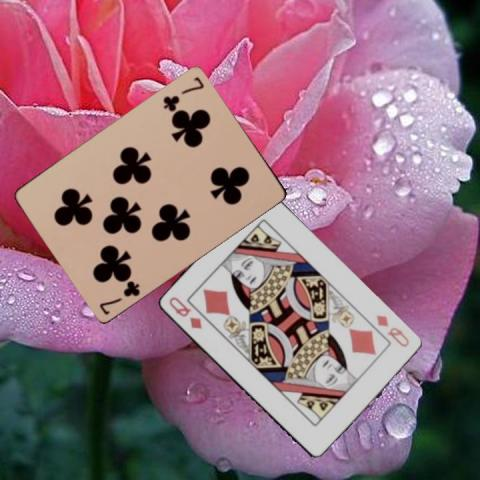7c: (96, 277, 142, 316), (160, 73, 205, 111)
Qd: (165, 293, 203, 331), (373, 312, 410, 349)
